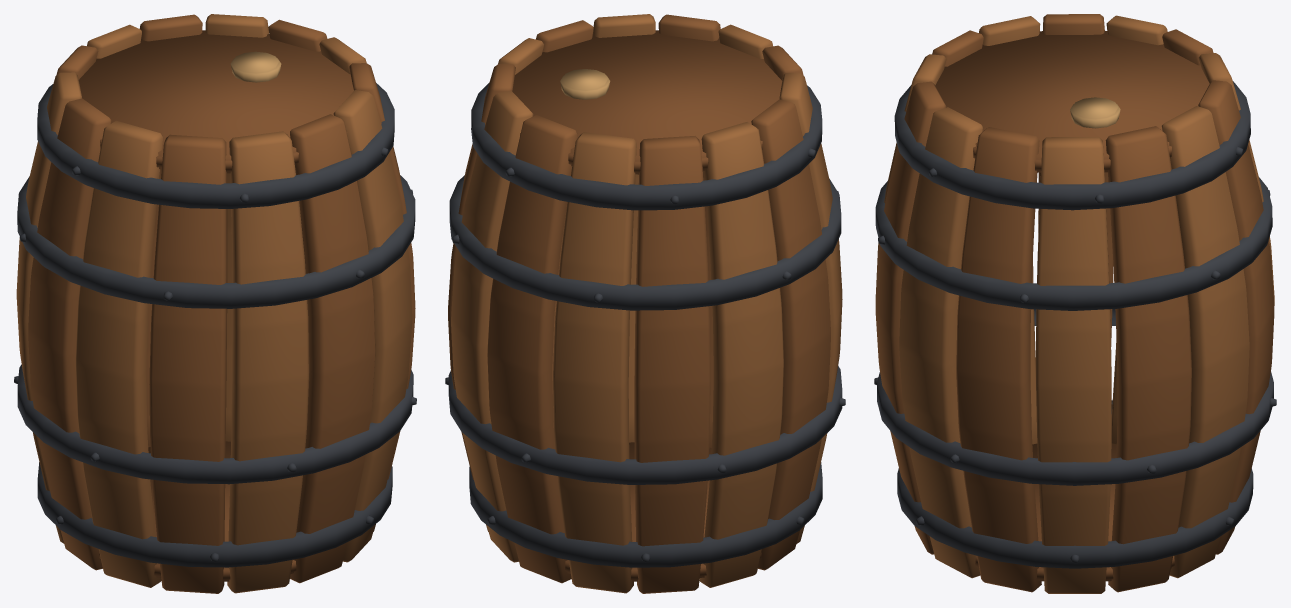
Rendered from prop_barrel.glb.
3 renders of one model, left to right at view 1: azimuth 30°, elevation 25°; view 2: azimuth 150°, elevation 25°; view 3: azimuth 270°, elevation 25°, orthographic.
Visible parts, largest first — view 1: prop_barrel; view 2: prop_barrel; view 3: prop_barrel.
Part boxes in pixels (bbox=[...]): prop_barrel: bbox=[14, 14, 416, 593]; prop_barrel: bbox=[445, 14, 845, 593]; prop_barrel: bbox=[874, 14, 1276, 593].
Bounding box in the file's own units: 0.8798 × 1.1 × 0.8911.
